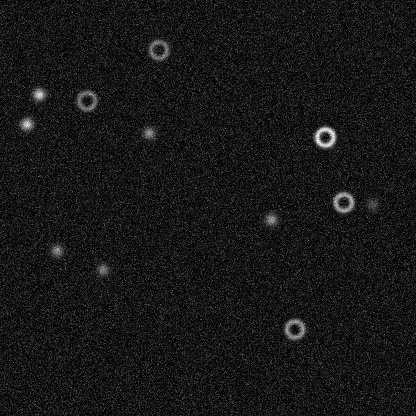Ring: (74, 88, 98, 112), (312, 125, 336, 149), (282, 317, 306, 341), (146, 37, 170, 61), (331, 190, 355, 214)
Spot: (140, 124, 156, 140), (263, 211, 279, 227), (30, 86, 46, 102), (18, 115, 34, 131), (364, 196, 380, 212), (94, 261, 110, 277), (48, 242, 64, 258)
